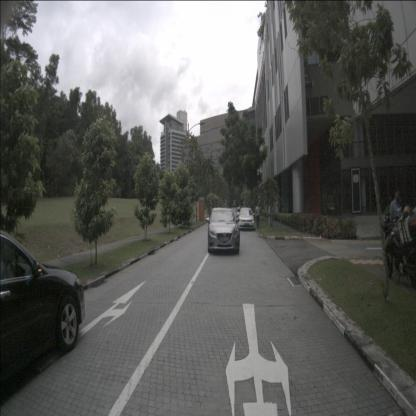human-pedestrian-adult: (389, 188, 405, 270), (254, 203, 260, 228)
vehicle-car: (0, 230, 85, 404), (208, 207, 240, 254), (238, 208, 254, 230), (326, 203, 336, 215)
vehicle-motorcycle: (380, 212, 416, 290)
